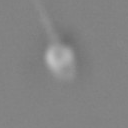normal: (34, 1, 63, 42)
